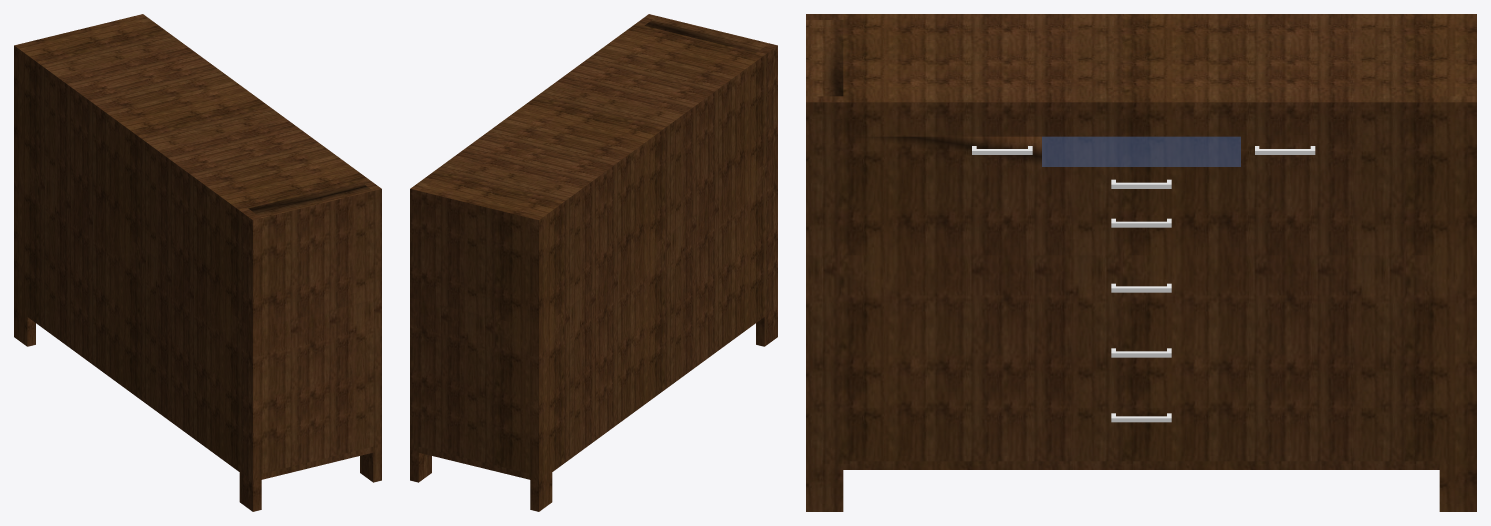
The picture shows the model from 3 angles, left to right: view 1: azimuth 30°, elevation 25°; view 2: azimuth 150°, elevation 25°; view 3: azimuth 270°, elevation 25°; orthographic projection. The views are drawn at different scales.
Parts seen in each view (by area): view 1: Mesh3_G_147_1_Group1_Model; view 2: Mesh3_G_147_1_Group1_Model; view 3: Mesh3_G_147_1_Group1_Model.
Part boxes in pixels (x1,y1,x2,y2): Mesh3_G_147_1_Group1_Model: (14,14,381,511); Mesh3_G_147_1_Group1_Model: (410,14,777,511); Mesh3_G_147_1_Group1_Model: (806,14,1476,511).
Bounding box in the file's own units: 0.4889 × 1 × 1.49.
